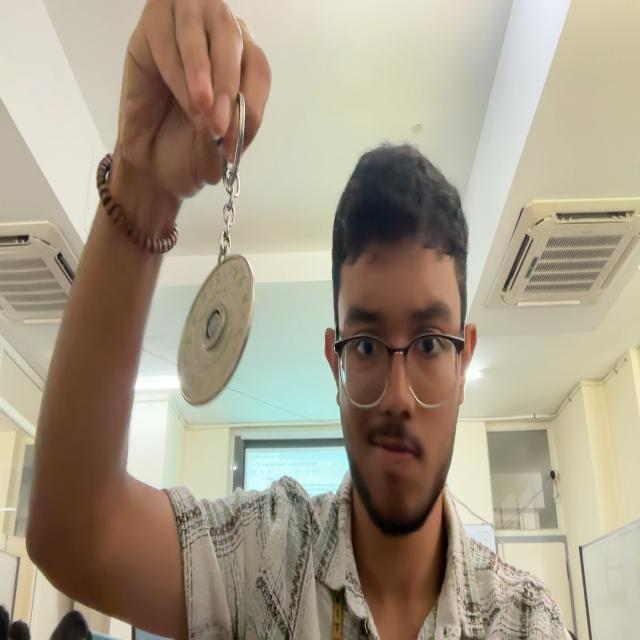dangerous: (177, 93, 254, 405)
